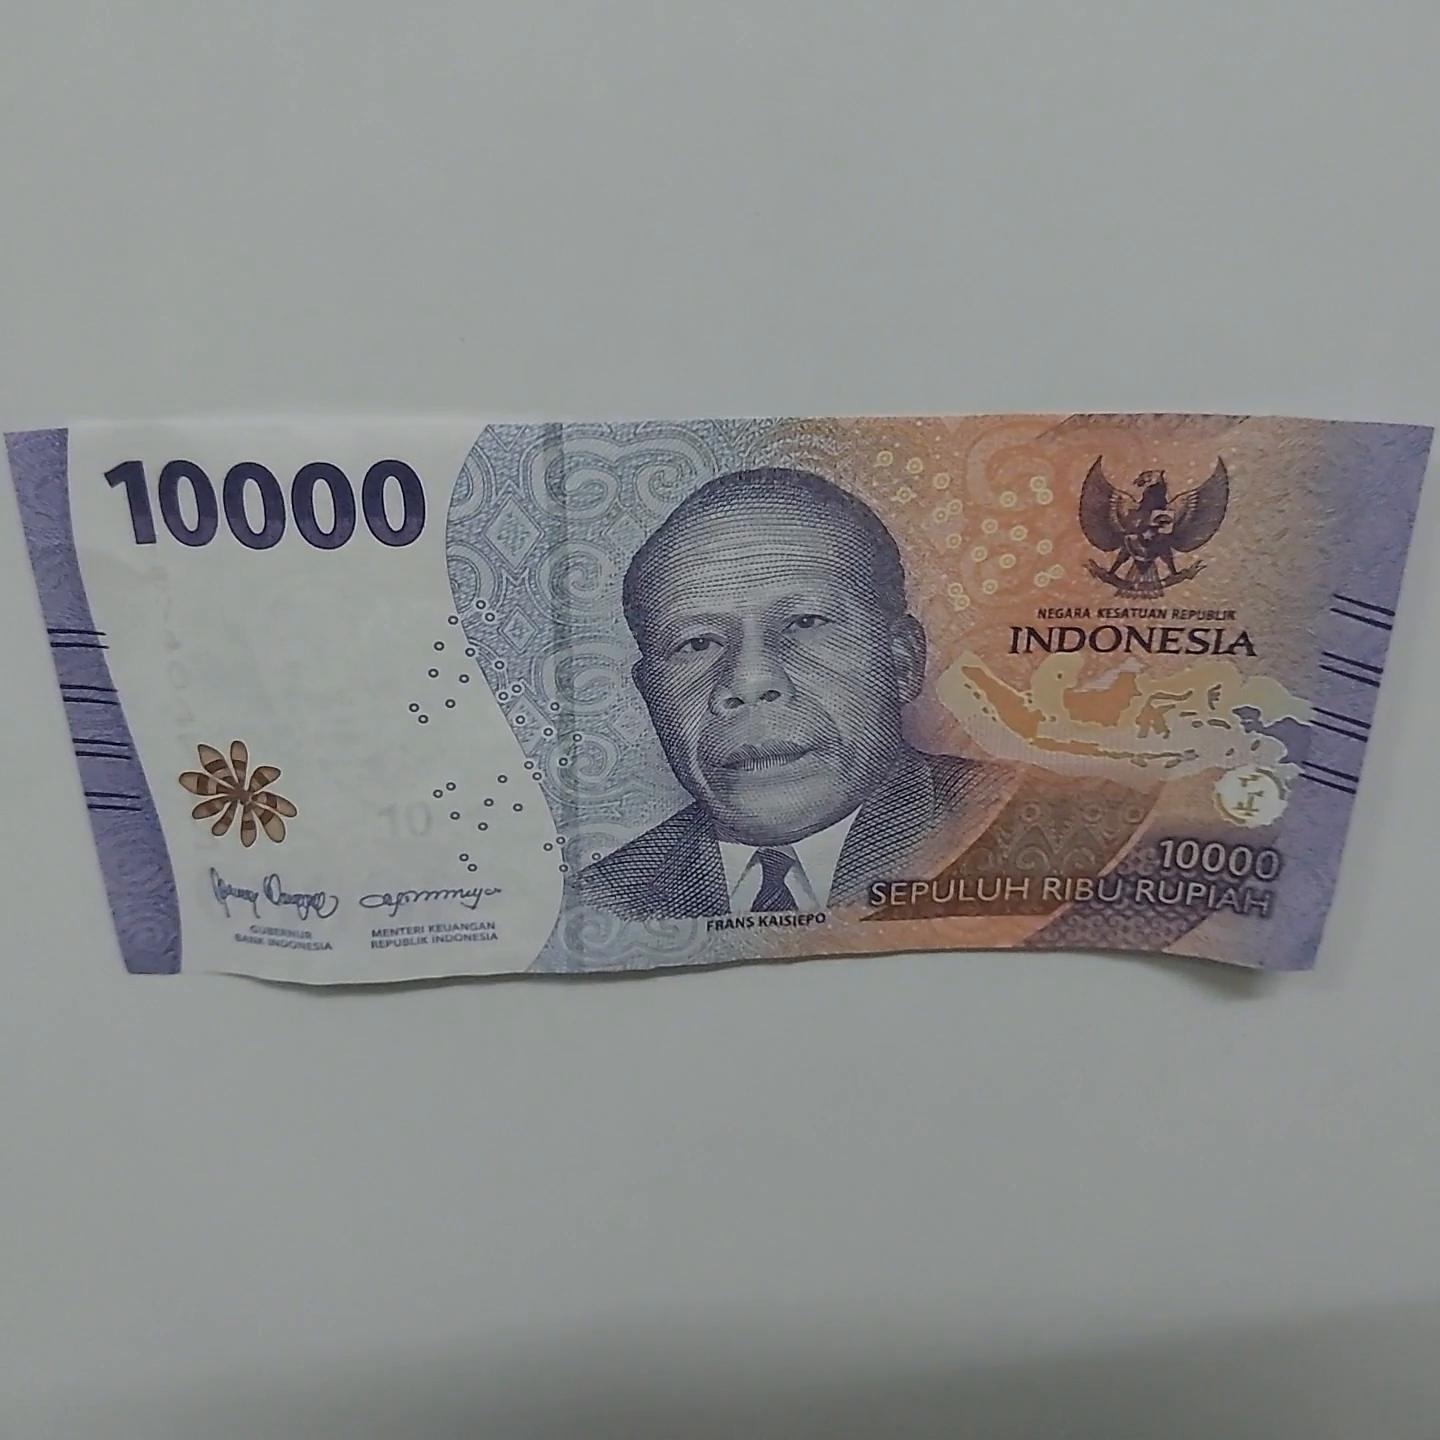10k: (11, 425, 1440, 992)
